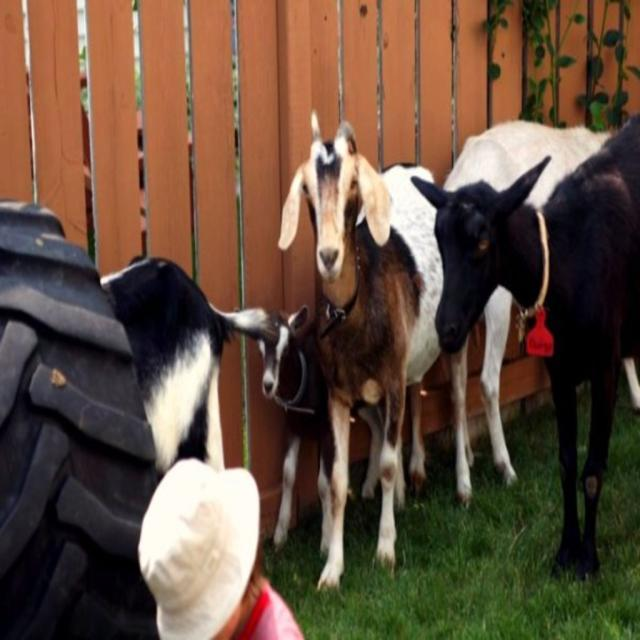Goat: (276, 109, 531, 590), (409, 112, 639, 581), (100, 253, 271, 478)
